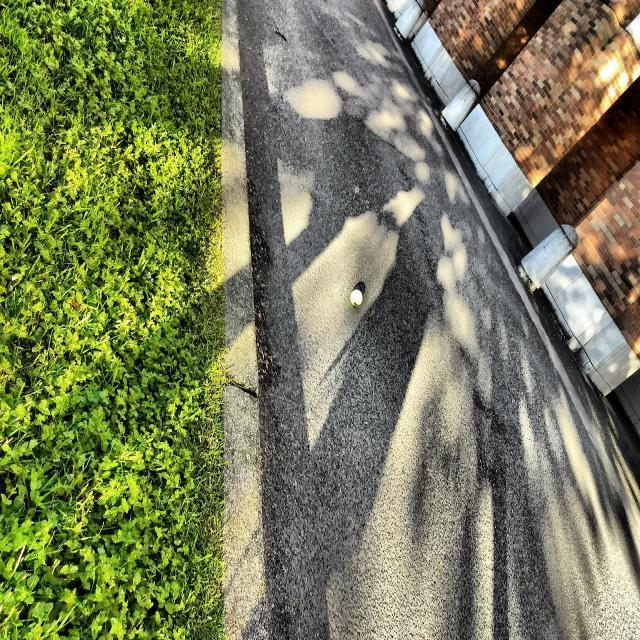tennis-ball: (347, 285, 363, 313)
